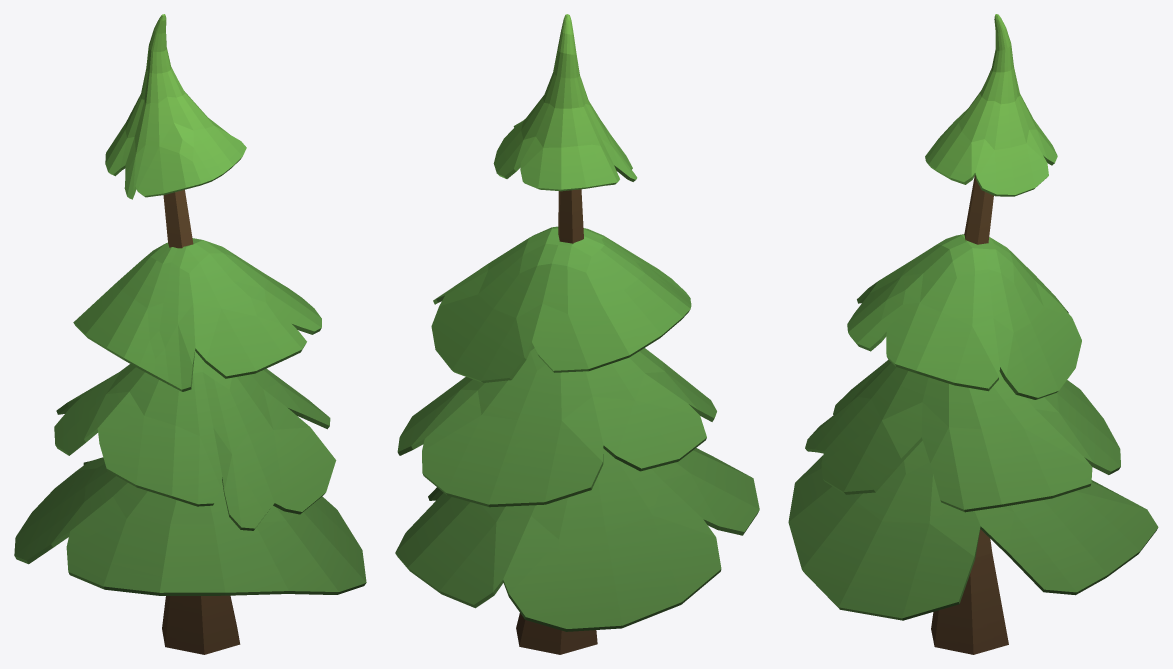
The model's file is PineTree2.fbx.
3 renders of one model, left to right at view 1: azimuth 30°, elevation 25°; view 2: azimuth 150°, elevation 25°; view 3: azimuth 270°, elevation 25°, orthographic. The views are drawn at different scales.
Visible parts, largest first — view 1: PineTree_2_Cylinder.024; view 2: PineTree_2_Cylinder.024; view 3: PineTree_2_Cylinder.024.
Boxes of the visible parts, left/top/right/bottom form: PineTree_2_Cylinder.024: left=14, top=14, right=366, bottom=654; PineTree_2_Cylinder.024: left=395, top=14, right=759, bottom=654; PineTree_2_Cylinder.024: left=788, top=14, right=1158, bottom=654.
Size of the model in its own units: 180 by 356 by 196.
